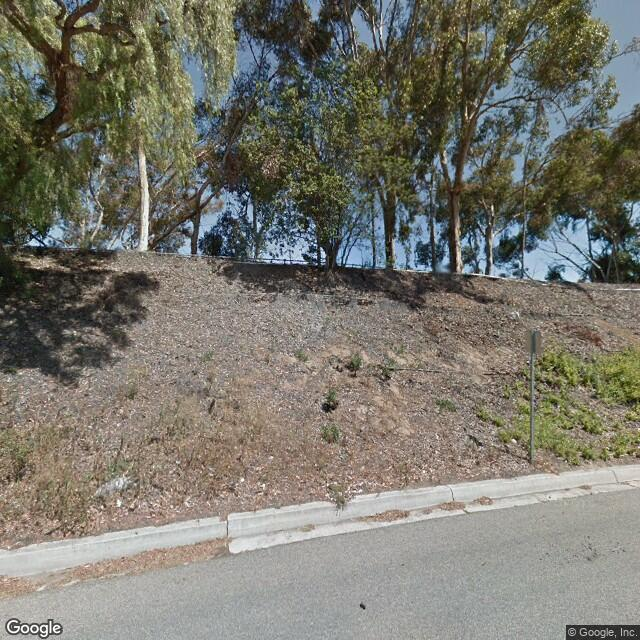litter: (93, 477, 140, 498), (507, 308, 524, 324)
